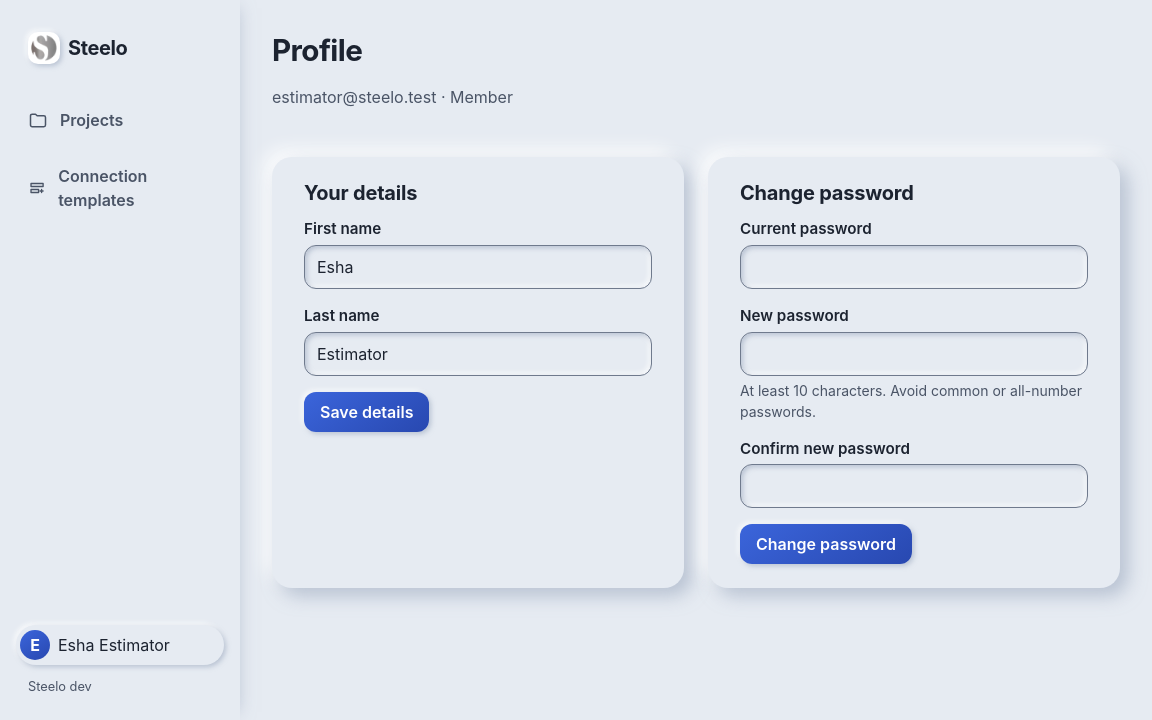
it: Profile › changes the password
expect the heading "Change password" is shown: met, box [740,181,914,205]
Type "correct-horse-battery" into the password field labelled "Current password".
click(914, 267); type("correct-horse-battery")  # box [740,245,1088,289]
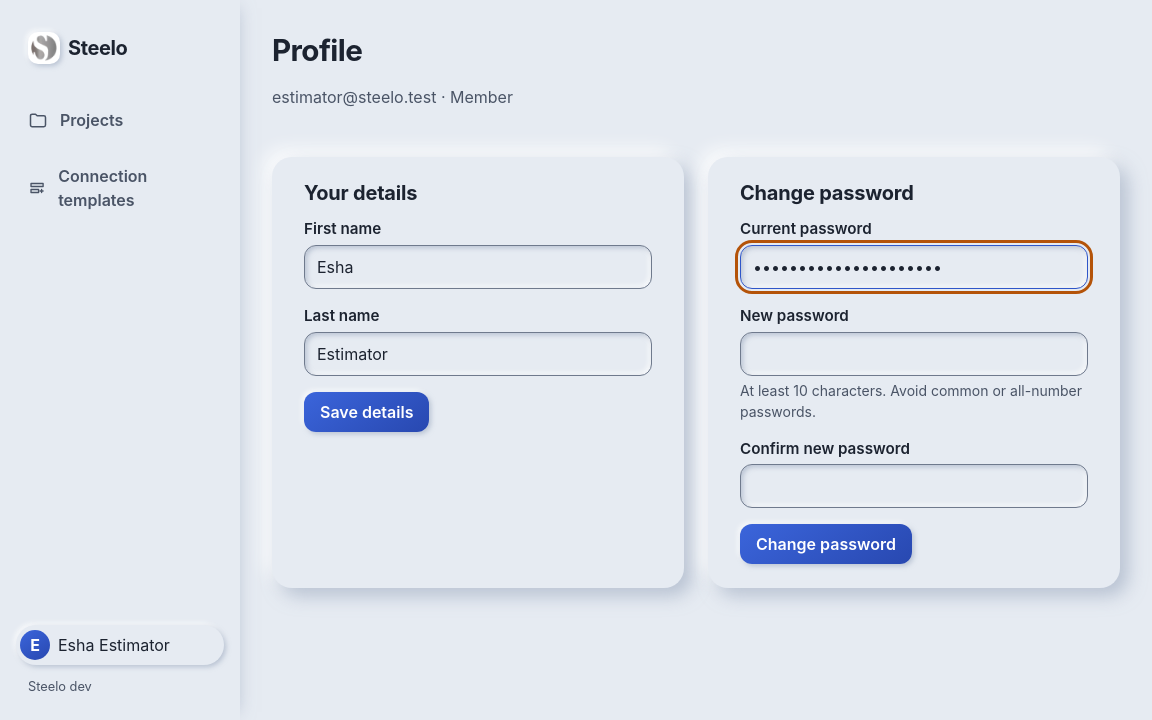
Type "new-password-123" into the password field labelled "New password".
click(914, 354); type("new-password-123")  # box [740,332,1088,376]
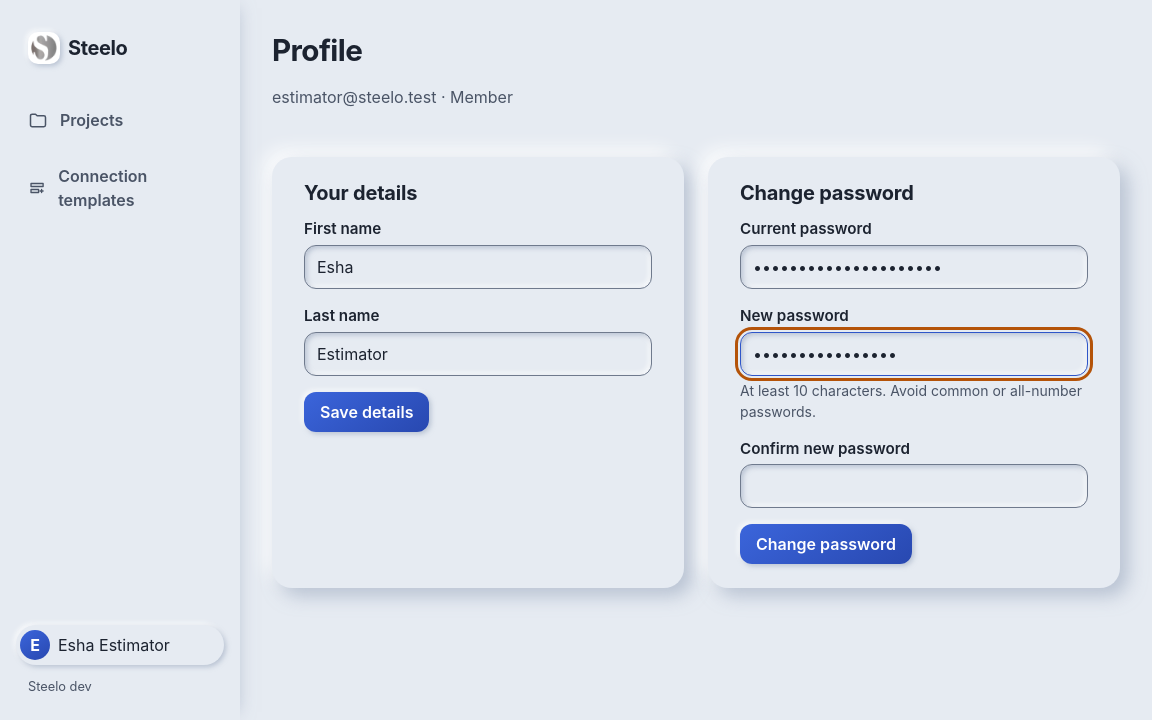
Type "new-password-123" into the password field labelled "Confirm new password".
click(914, 486); type("new-password-123")  # box [740,464,1088,508]
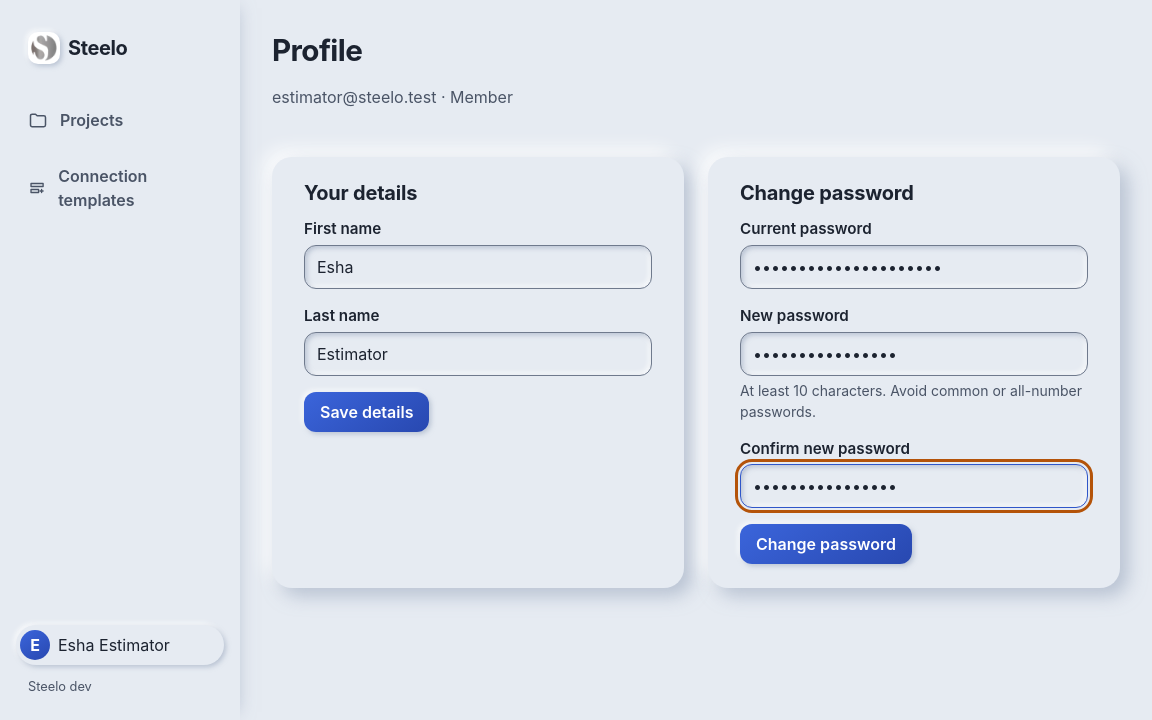
Click the button "Change password".
click(826, 544)  # box [740,524,912,564]
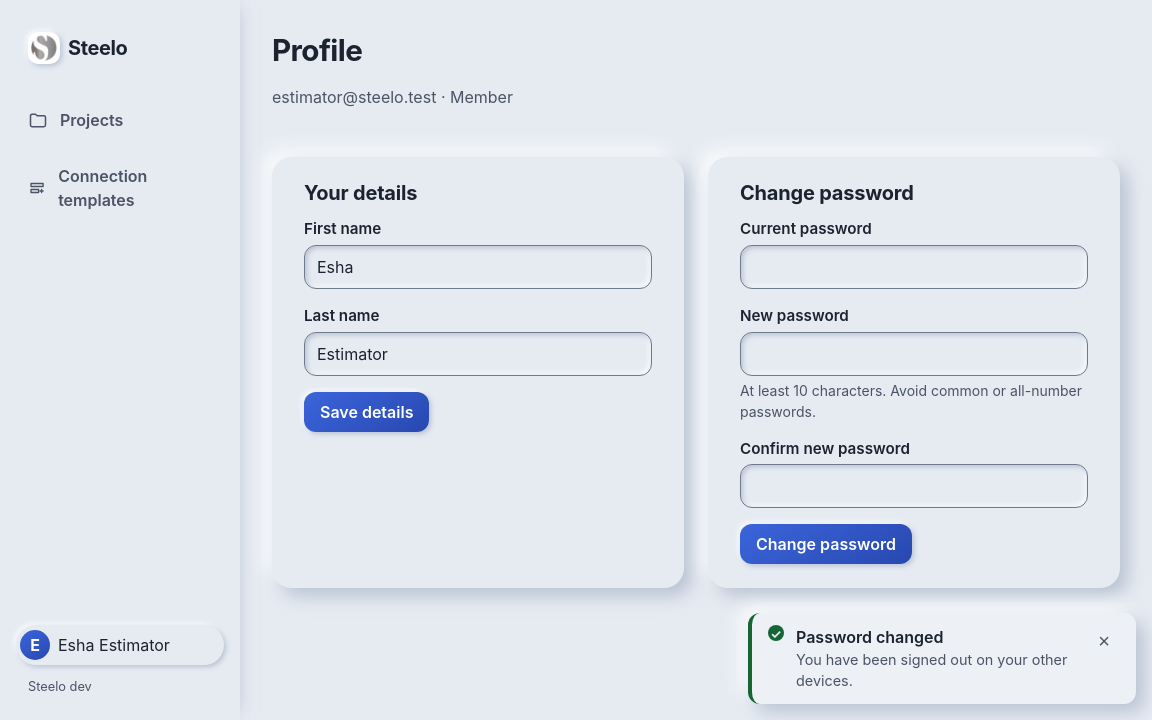
expect the text "Password changed" is shown: met, box [796,627,943,647]
expect the password field labelled "Current password" is empty: met, box [740,245,1088,289]
